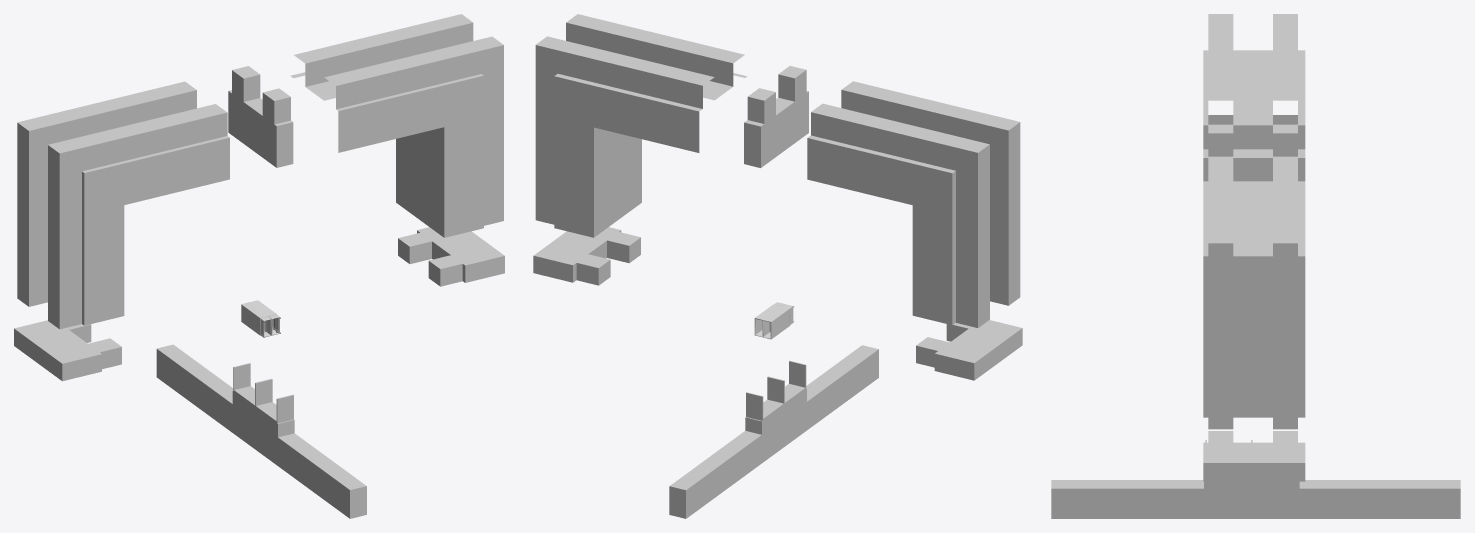
Rendered from window_02.glb.
The picture shows the model from 3 angles, left to right: view 1: azimuth 30°, elevation 25°; view 2: azimuth 150°, elevation 25°; view 3: azimuth 270°, elevation 25°; orthographic projection. The views are drawn at different scales.
Parts seen in each view (by area): view 1: RCorner, LCorner, BStretch, TStretch, LStretch, RStretch, Leaf; view 2: RCorner, LCorner, BStretch, TStretch, LStretch, RStretch, Leaf; view 3: LCorner, BStretch, RCorner, RStretch, TStretch.
Part boxes in pixels (x1,y1,x2,y2): RCorner: (17,81,229,329); LCorner: (290,14,503,237); BStretch: (156,344,366,518); TStretch: (228,66,293,167); LStretch: (14,320,121,381); RStretch: (398,227,504,286); Leaf: (241,300,280,337); RCorner: (807,81,1020,327); LCorner: (535,14,746,237); BStretch: (669,345,878,518); TStretch: (744,66,808,167); LStretch: (916,320,1022,380); RStretch: (533,227,640,285); Leaf: (754,302,794,339); LCorner: (1203,156,1305,429); BStretch: (1051,440,1460,518); RCorner: (1203,14,1305,149); RStretch: (1203,431,1305,481); TStretch: (1203,124,1305,181).
Bounding box in the file's own units: 0.2654 × 0.2077 × 0.2002.
2 materials, 1 textured.
